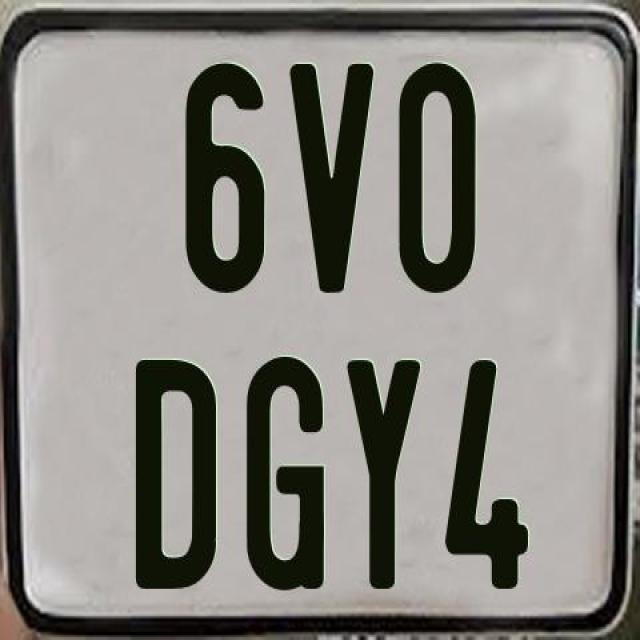0: (396, 62, 478, 293)
4: (444, 356, 532, 594)
6: (183, 61, 270, 300)
D: (133, 358, 216, 597)
G: (244, 353, 322, 592)
V: (286, 64, 374, 299)
Y: (343, 356, 416, 590)
